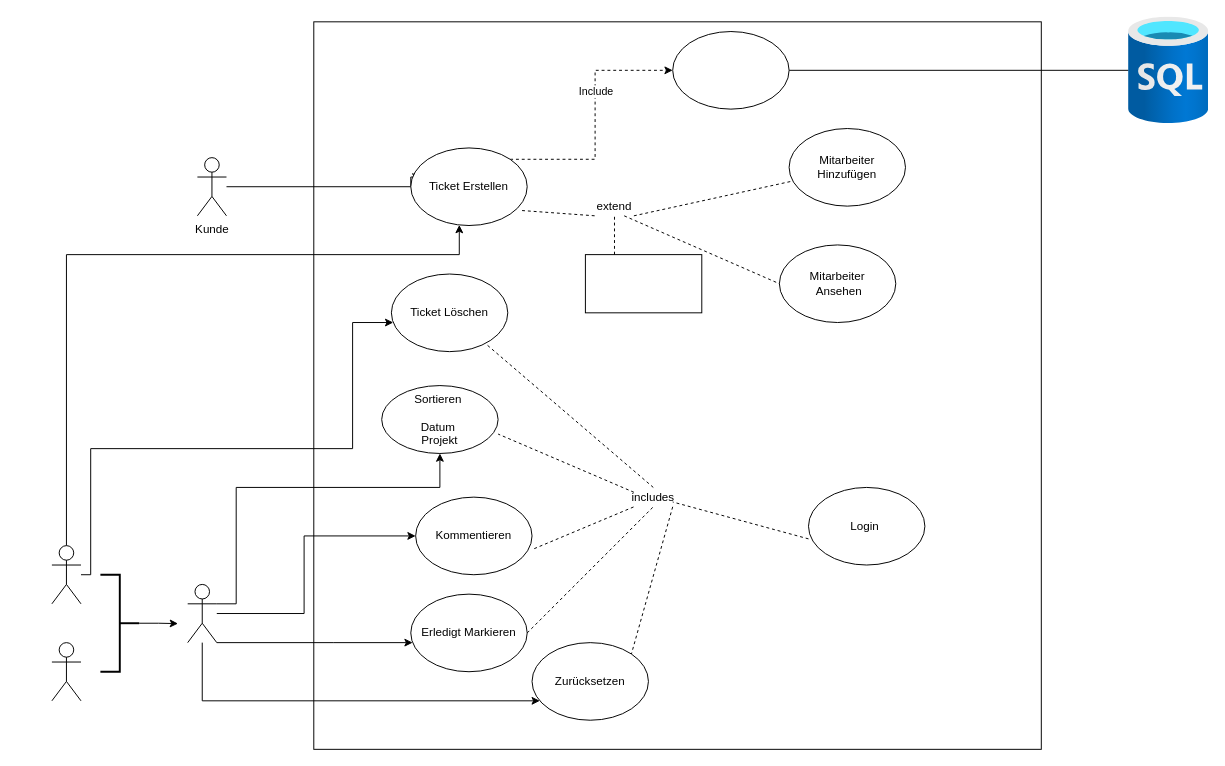
The diagram is 1225 pixels wide and 766 high, and some of its shapes have lost their labels. Each missing label, with the box of its shape:
Admin: (51, 545, 81, 604)
Extension Point: Wenn Admin: (584, 254, 702, 313)
Mitarbeiter: (187, 583, 217, 643)
Normale Mitarbiter: (51, 642, 81, 701)
Speichern: (672, 31, 789, 109)
